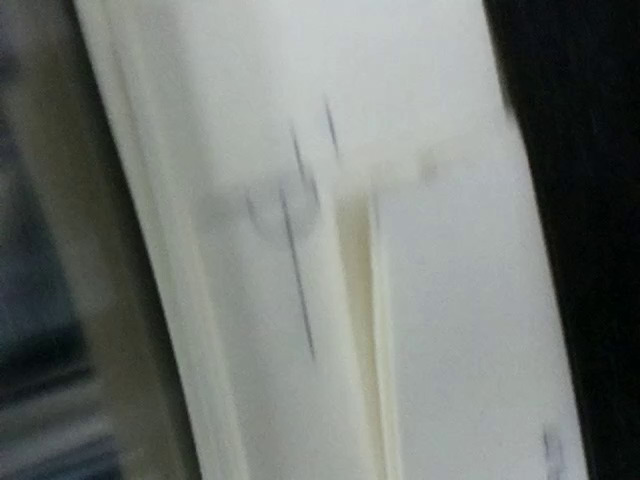not_sure: (198, 119, 331, 265)
